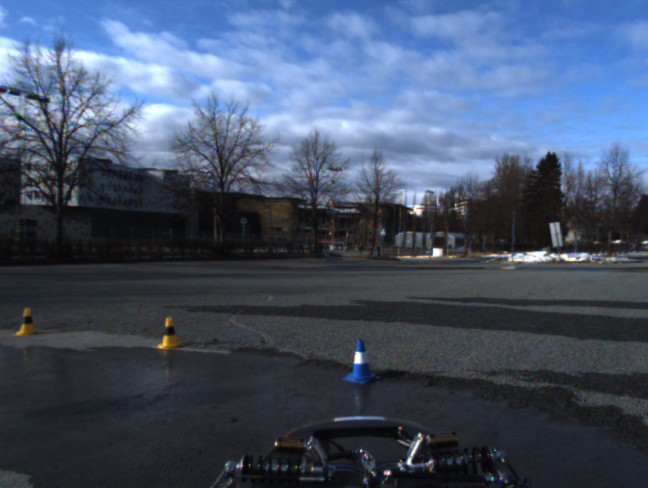cone-small-blue: (342, 339, 380, 385)
cone-small-yellow: (155, 316, 184, 350), (12, 307, 40, 336)
